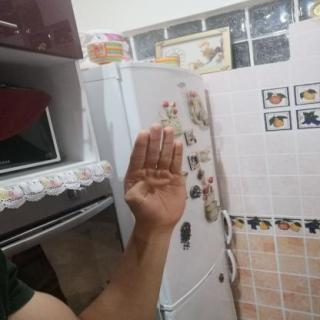KAAF: (113, 117, 196, 235)
